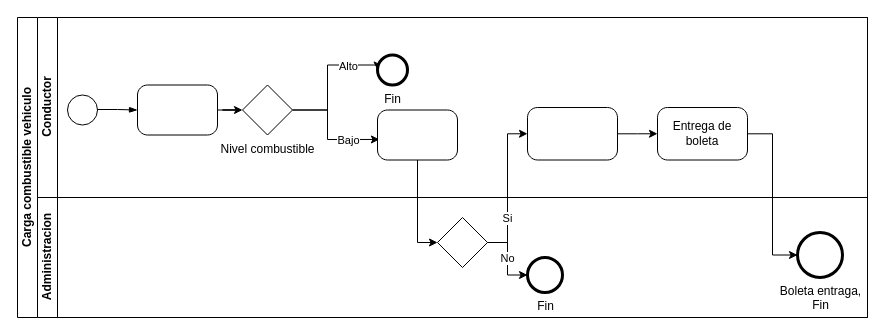
This 885x335 diagram has some shape labels left out. The box of each missing label's shape, as (x1, y1, x2, y2) in pixels:
Autorizacion: (436, 216, 488, 268)
Informa a administracion: (376, 109, 458, 160)
Realiza la carga: (526, 106, 618, 160)
Visualiza el tablero: (136, 84, 218, 135)
